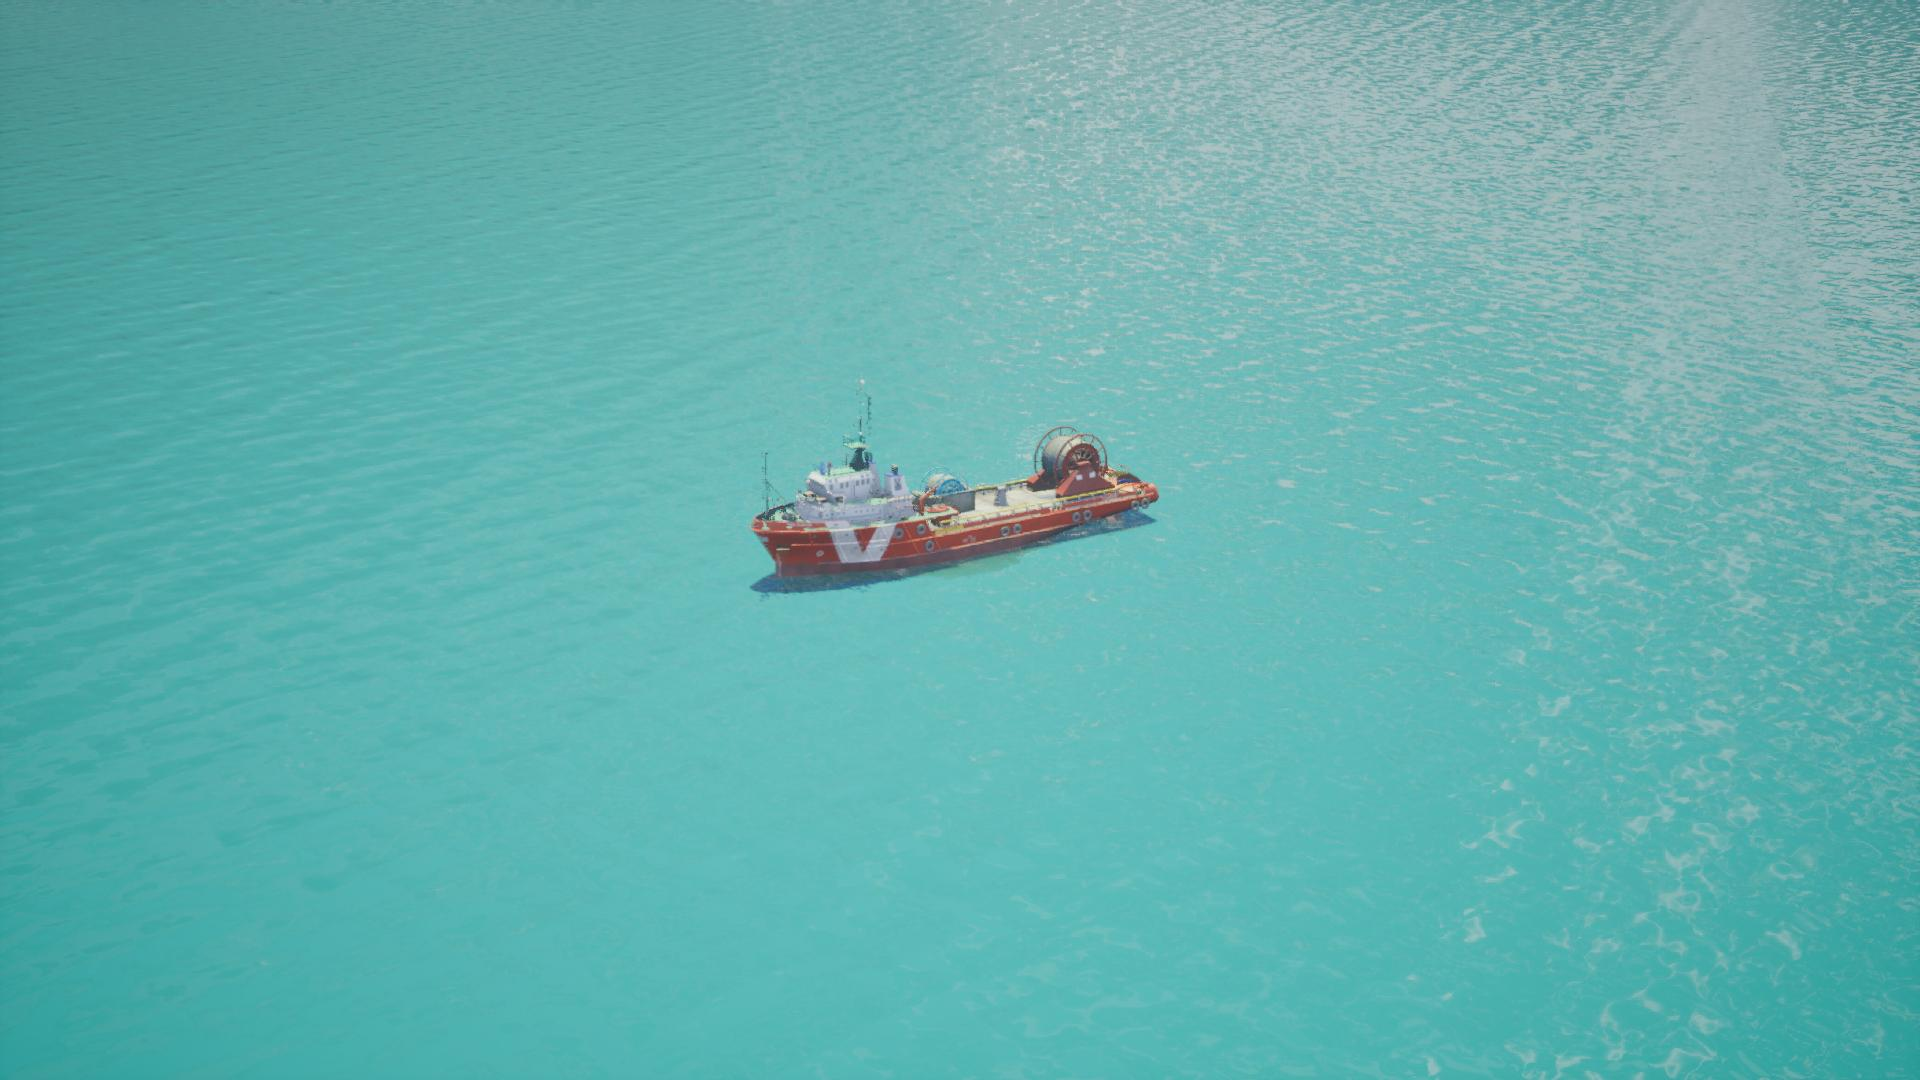Tug Boat: (752, 442, 1158, 592)
